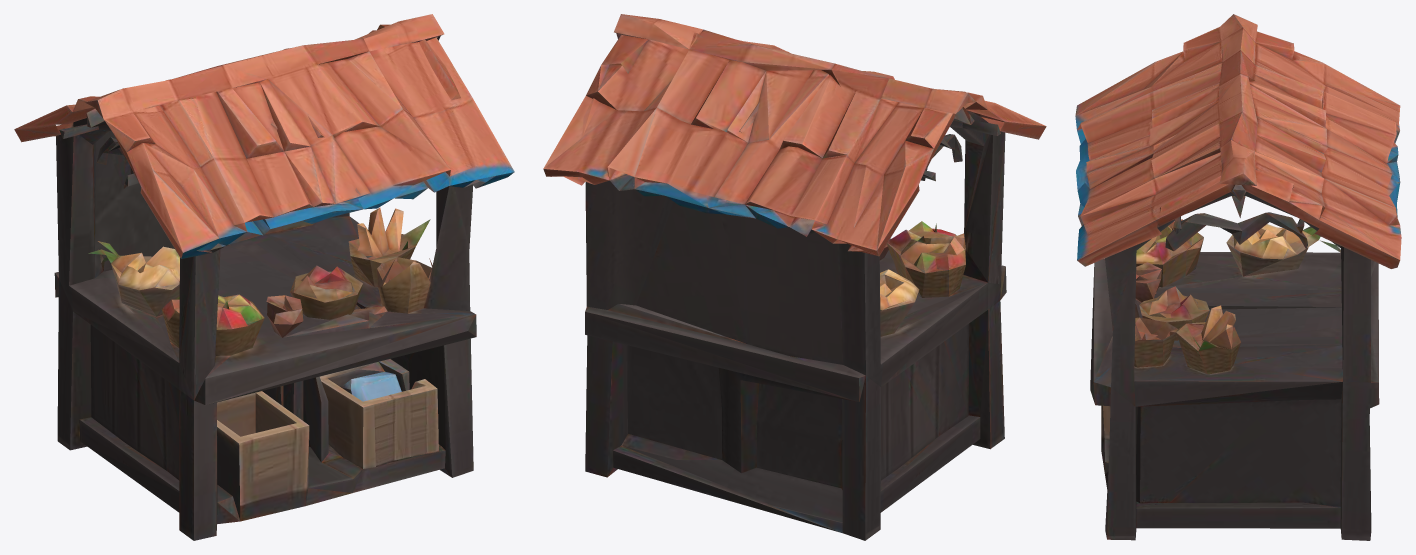
Rendered from market_stall.glb.
3 renders of one model, left to right at view 1: azimuth 30°, elevation 25°; view 2: azimuth 150°, elevation 25°; view 3: azimuth 270°, elevation 25°, orthographic. The views are drawn at different scales.
Visible parts, largest first — view 1: market_stall; view 2: market_stall; view 3: market_stall.
Part boxes in pixels (left/top/right/bottom): market_stall: left=14, top=14, right=514, bottom=540; market_stall: left=543, top=14, right=1046, bottom=540; market_stall: left=1075, top=14, right=1401, bottom=540.
Bounding box in the file's own units: 2.93 × 3.2 × 2.46.
Materials: 1 (1 with a texture image).
